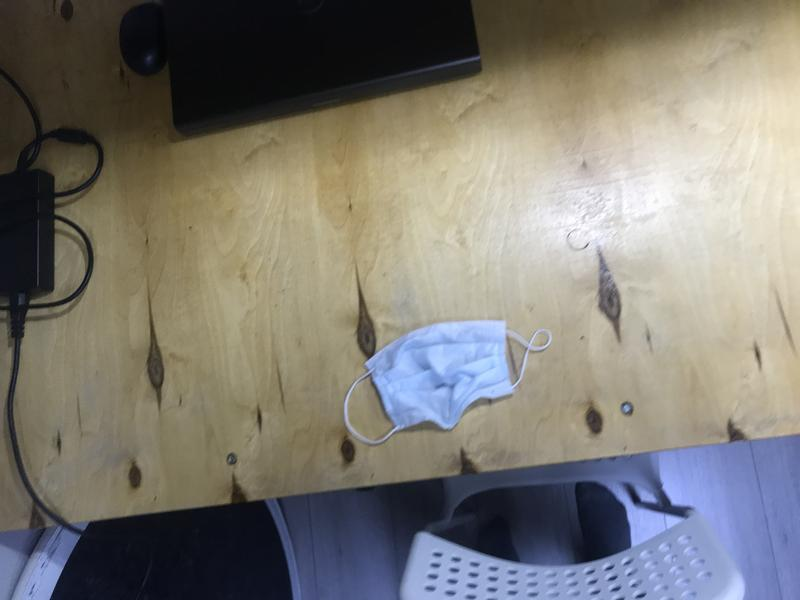medical_mask: (344, 320, 552, 445)
